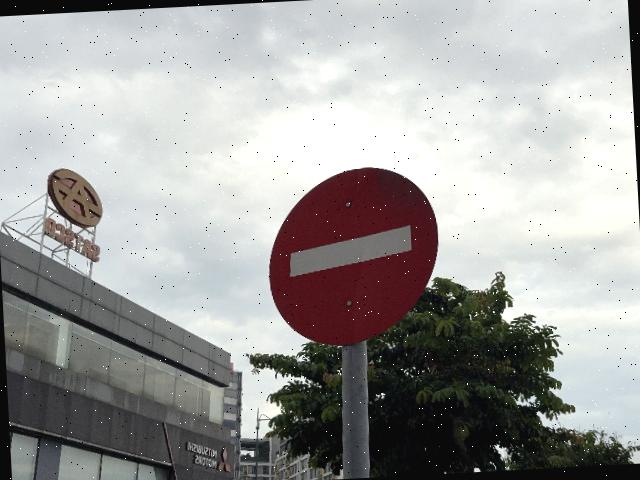cam-di-nguoc-chieu: (263, 164, 444, 350)
